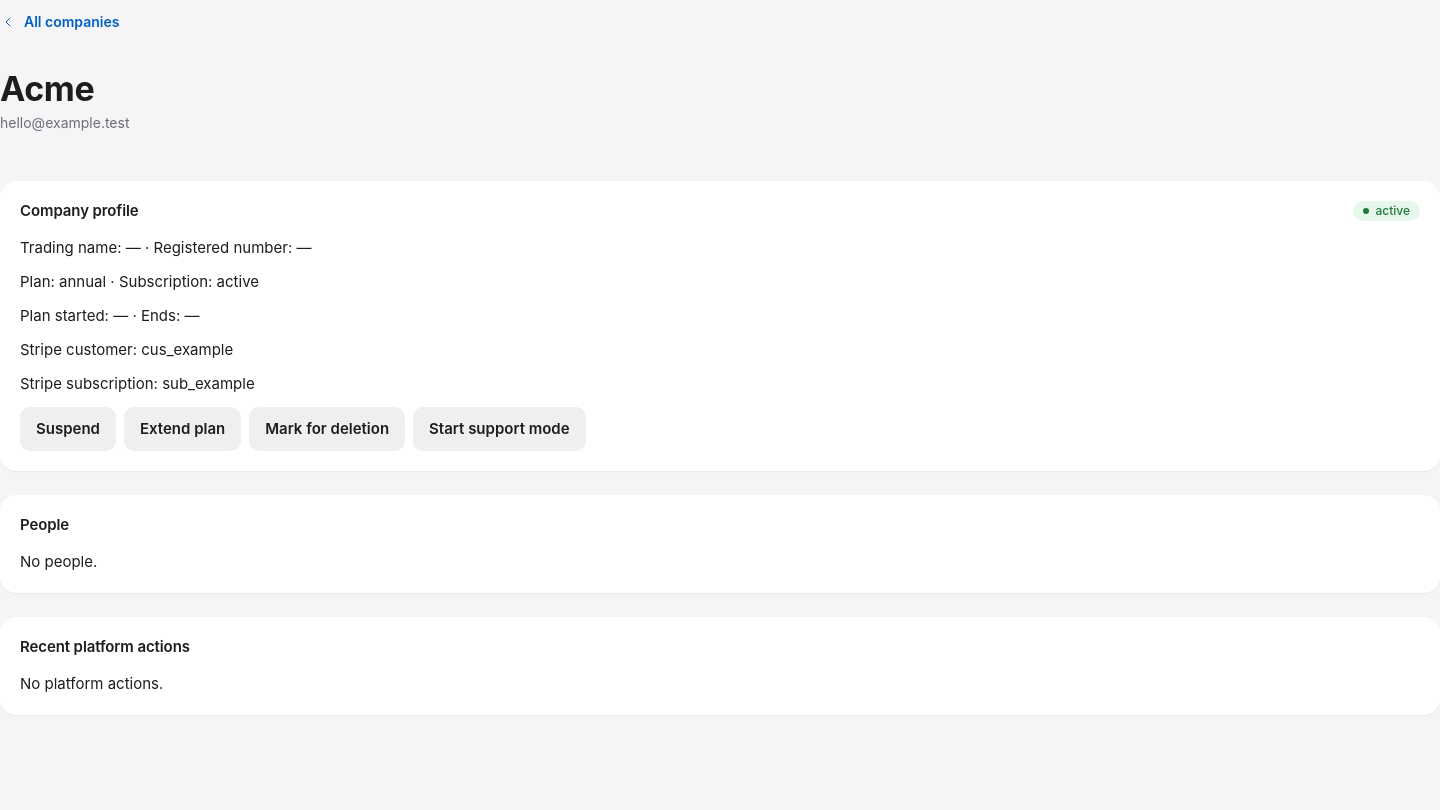
it: company actions › requires a reason for Mark for deletion
Click the button "Mark for deletion" at {"x": 327, "y": 429}, box [249,407,405,451]
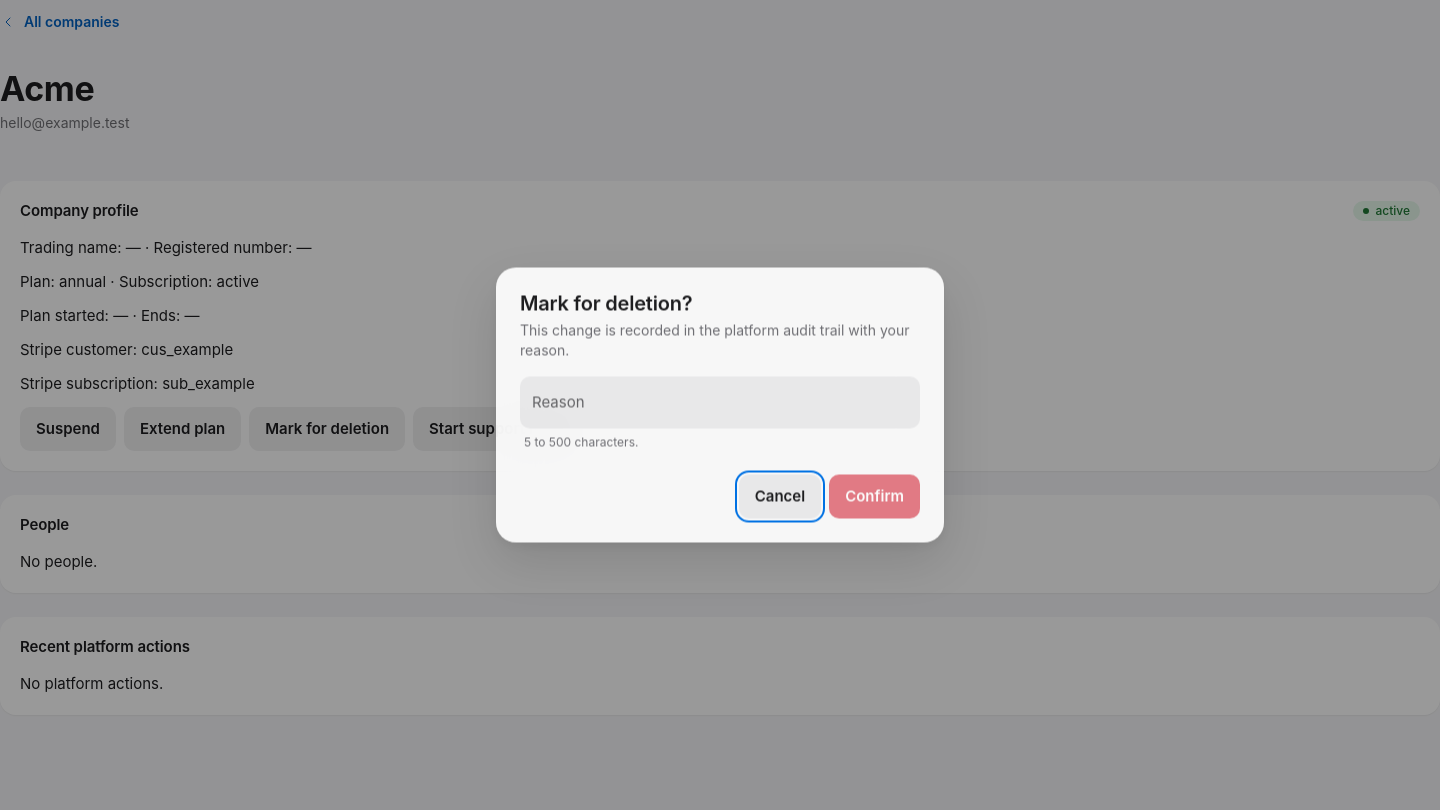
Expected: the button "Confirm" is disabled, [829,474,920,518]
